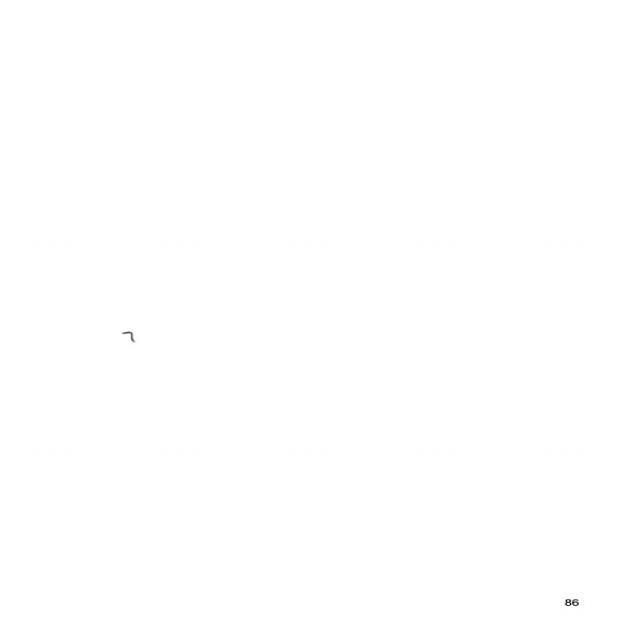6 -six-: (119, 329, 137, 344)
